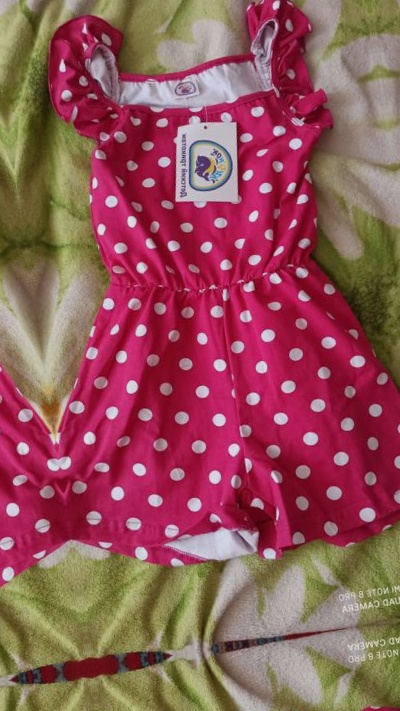Dress: (0, 0, 400, 607), (0, 15, 81, 663), (372, 0, 400, 548), (100, 674, 400, 711)
